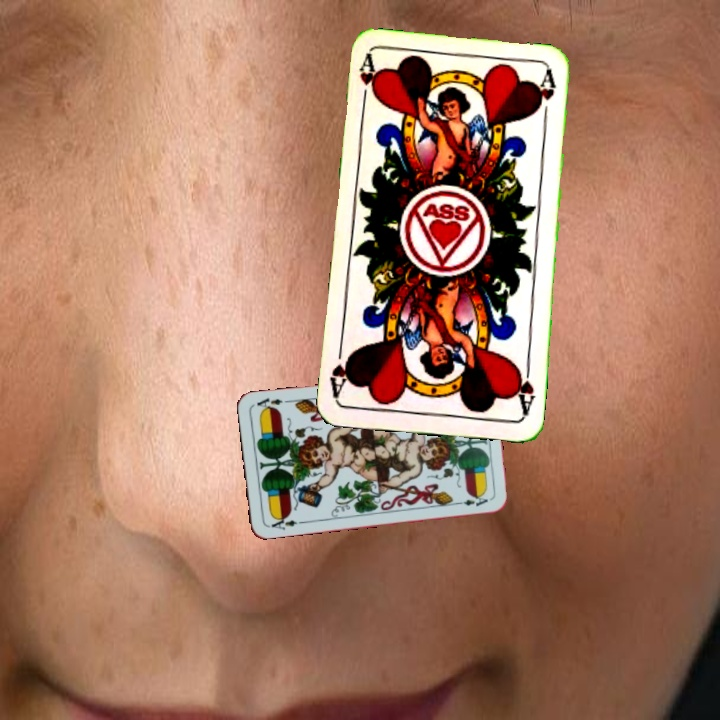EA: (265, 512, 305, 532)
HA: (511, 359, 538, 418), (355, 52, 382, 111)
